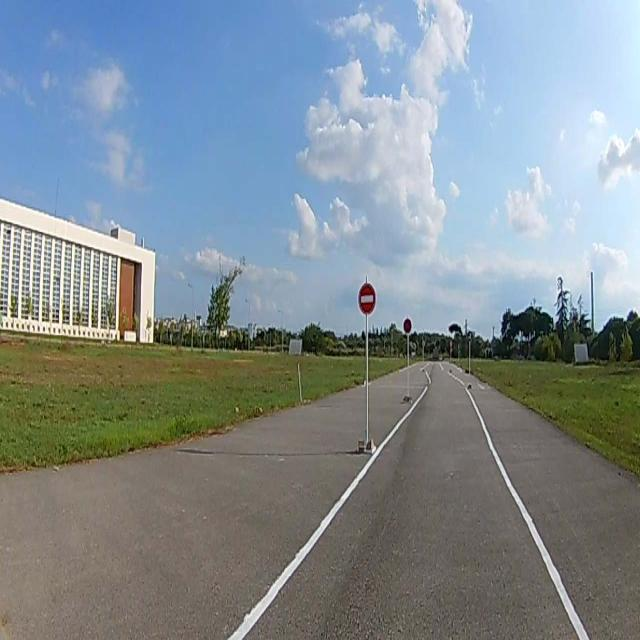girisyok: (358, 282, 377, 314)
